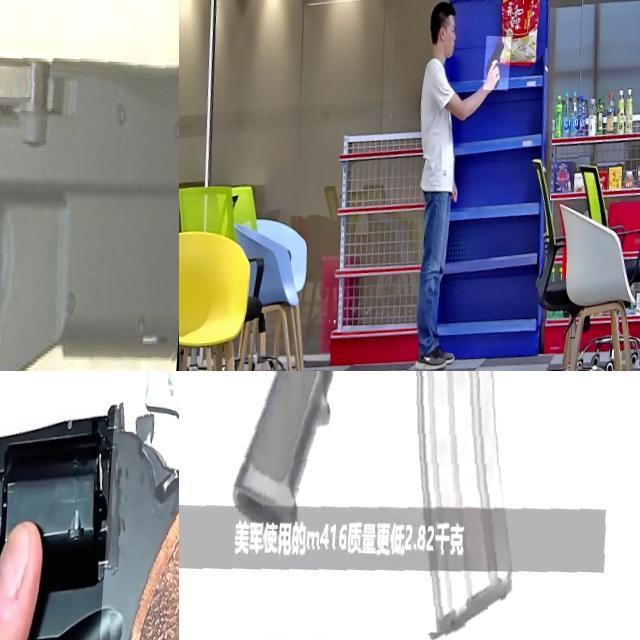gun-knife-thesis - v11 Yolov5 augmented: (179, 371, 640, 640), (0, 0, 179, 371), (0, 421, 179, 640), (102, 371, 179, 640), (486, 32, 514, 86)
